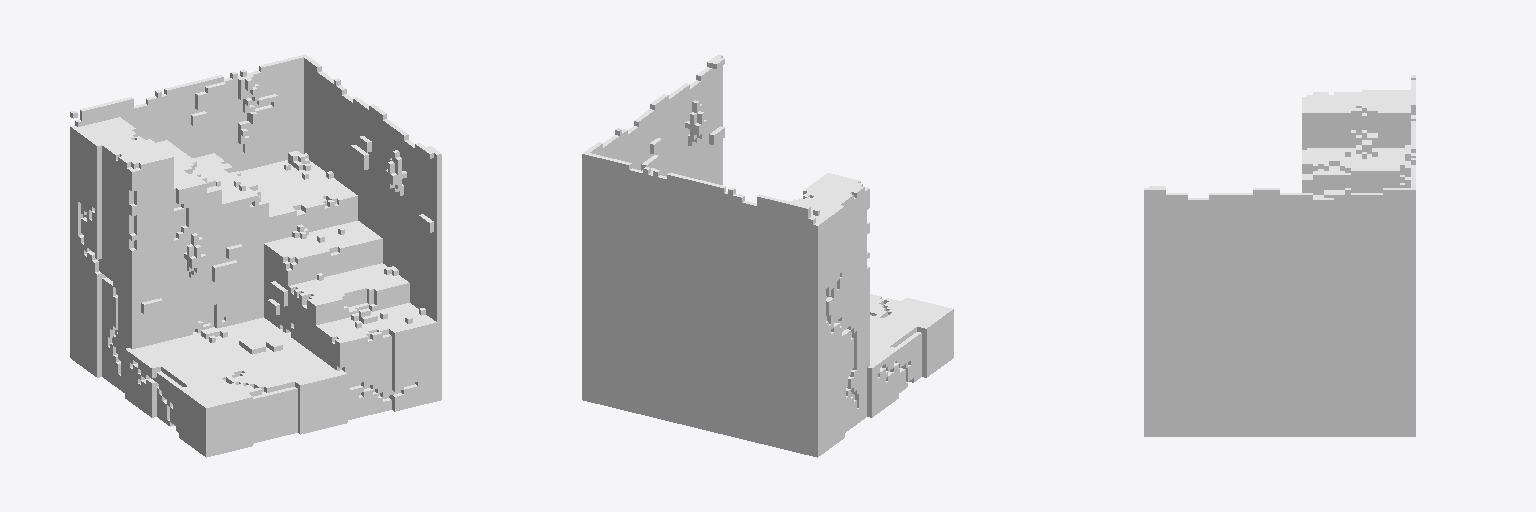
File: Stairs.obj
The picture shows the model from 3 angles: view 1: azimuth 30°, elevation 25°; view 2: azimuth 150°, elevation 25°; view 3: azimuth 270°, elevation 25°; orthographic projection.
Parts seen in each view (by area): view 1: Stairs; view 2: Stairs; view 3: Stairs.
Boxes of the visible parts, <box> form: Stairs: <box>70,54,441,457</box>; Stairs: <box>582,54,953,457</box>; Stairs: <box>1144,75,1415,436</box>.
Size of the model in its own units: 5 by 5 by 5.